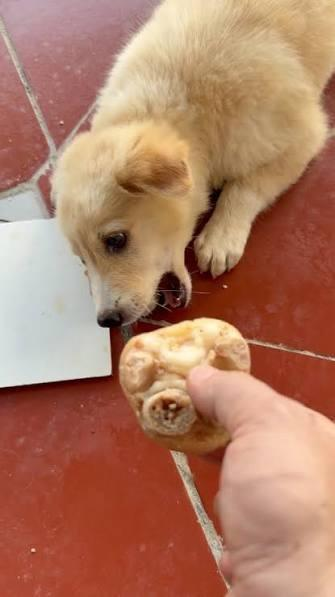puppy-dog: (49, 1, 335, 329)
